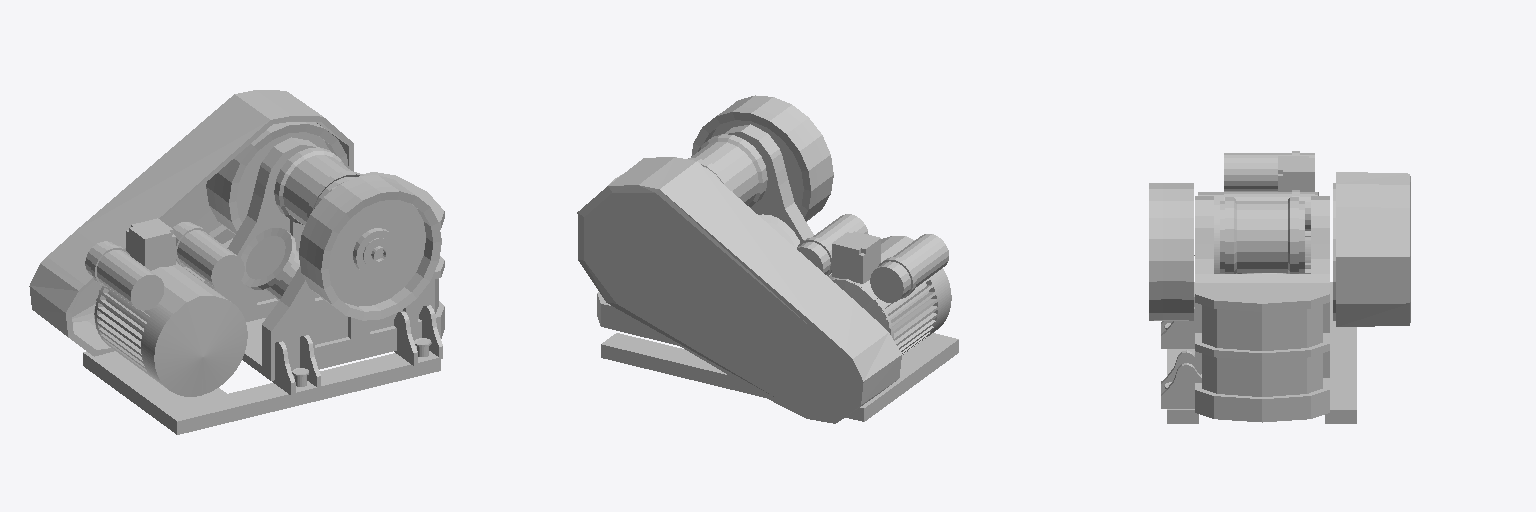
File: HighPoly.obj
The picture shows the model from 3 angles: view 1: azimuth 30°, elevation 25°; view 2: azimuth 150°, elevation 25°; view 3: azimuth 270°, elevation 25°; orthographic projection.
Parts seen in each view (by area): view 1: polySurface13; view 2: polySurface13; view 3: polySurface13.
Boxes of the visible parts, box(x1,y1,x2,y2) form: polySurface13: box(29, 90, 444, 434); polySurface13: box(577, 95, 958, 423); polySurface13: box(1149, 151, 1410, 423).
Bounding box in the file's own units: 5.76 × 3.57 × 4.03.